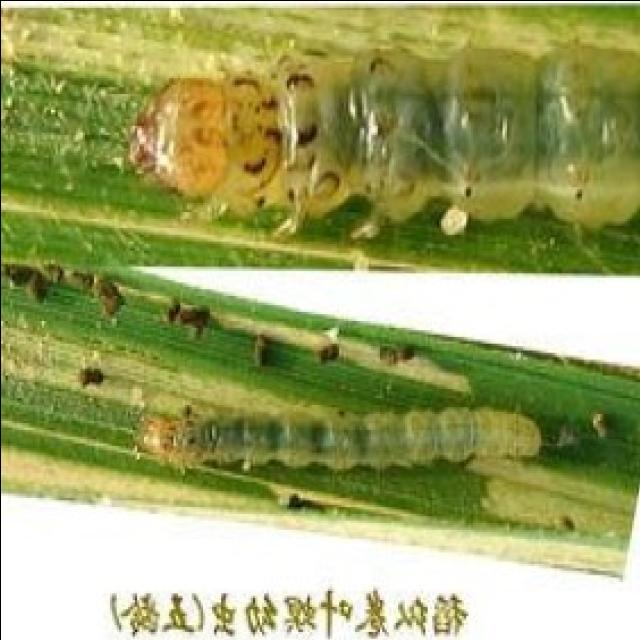rice leaf roller: (127, 48, 640, 238), (134, 388, 542, 470), (0, 263, 125, 320), (166, 297, 216, 338), (254, 331, 286, 365), (311, 325, 340, 361), (377, 343, 418, 365), (79, 363, 104, 386), (281, 492, 318, 506), (592, 409, 608, 438)
